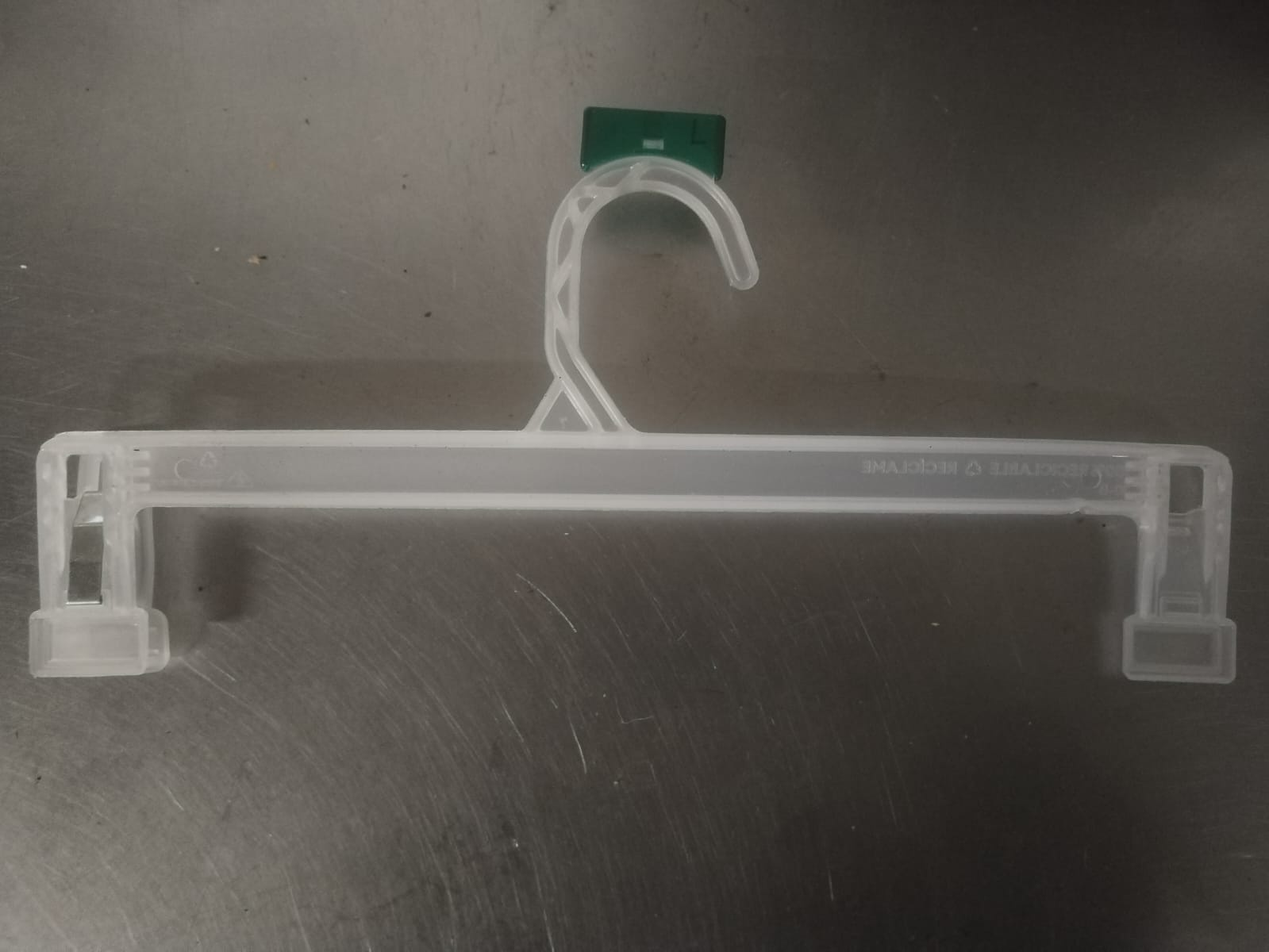Plastico: (29, 108, 1237, 677)
